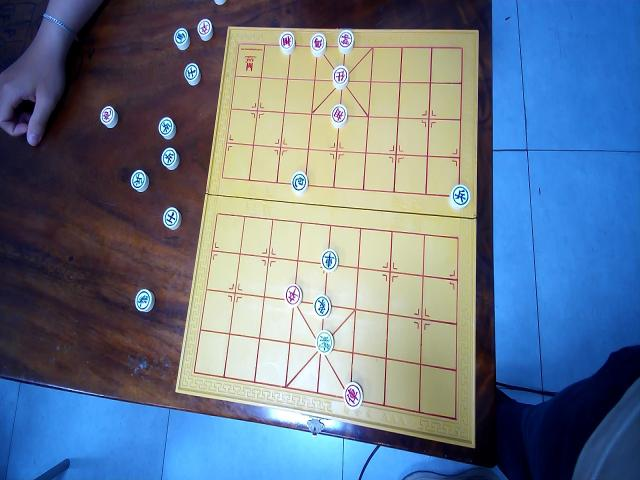piece: (448, 183, 471, 211), (343, 381, 363, 409), (134, 289, 154, 313), (330, 103, 348, 129), (316, 329, 334, 355), (320, 248, 338, 273), (158, 116, 176, 140), (130, 169, 148, 193), (161, 146, 179, 170), (291, 171, 309, 195), (284, 283, 302, 307), (313, 294, 331, 318), (337, 29, 354, 54), (332, 64, 349, 89), (162, 207, 180, 230), (100, 105, 118, 128), (197, 17, 213, 42), (310, 32, 326, 57), (279, 30, 295, 55), (173, 27, 190, 50), (183, 62, 200, 85), (213, 0, 226, 5)
